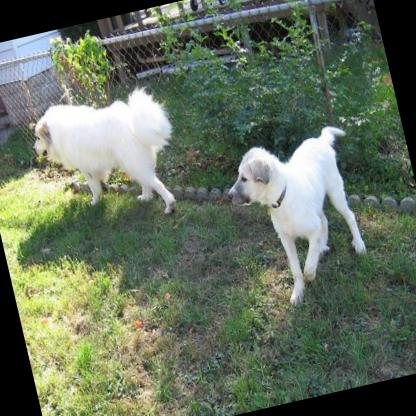Great_Pyrenees: (212, 120, 381, 320), (23, 81, 191, 242)
